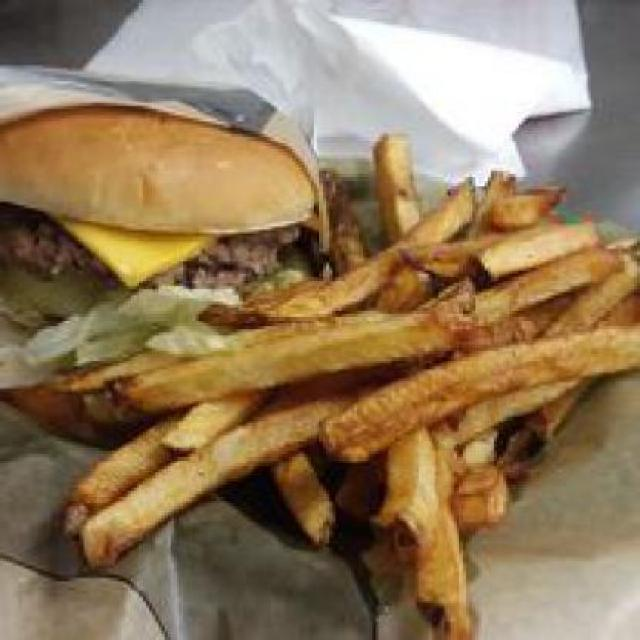french fries: (183, 124, 631, 630)
hamburger: (3, 93, 323, 342)
